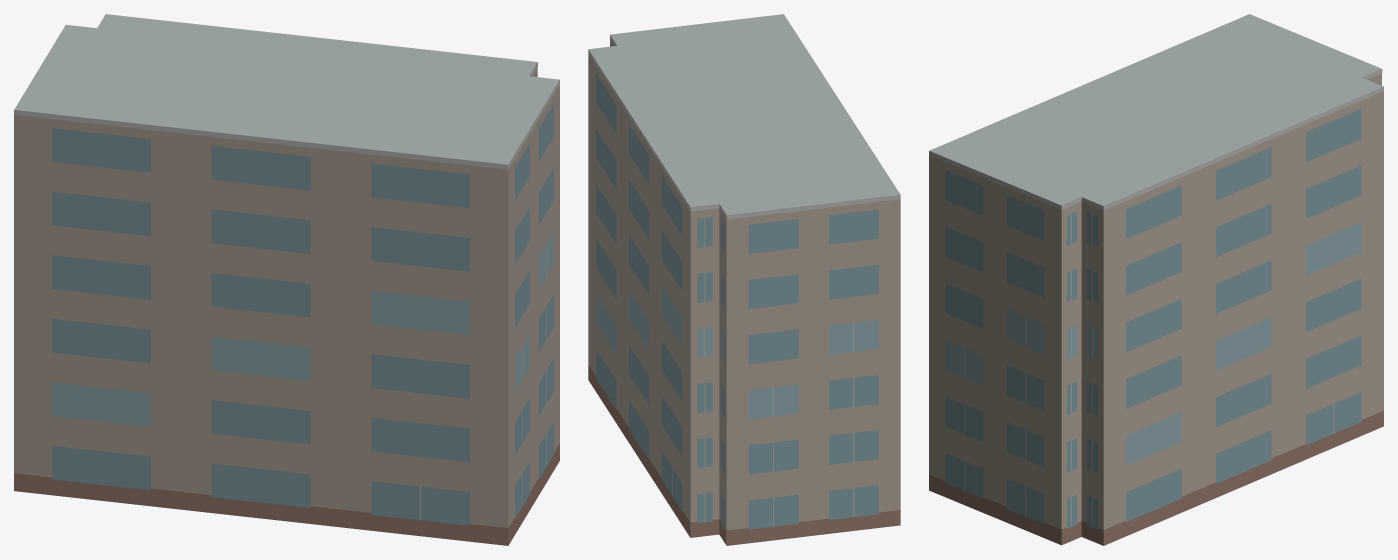
Rendered from survey-upis-32749974.glb.
3 views of the same model, side by side, from view 1: azimuth 30°, elevation 25°; view 2: azimuth 150°, elevation 25°; view 3: azimuth 270°, elevation 25° (orthographic). The views are drawn at different scales.
Parts seen in each view (by area): view 1: survey-upis-32749974.tmp; view 2: survey-upis-32749974.tmp; view 3: survey-upis-32749974.tmp.
Part boxes in pixels (x1,y1,x2,y2): survey-upis-32749974.tmp: (14, 14, 559, 545); survey-upis-32749974.tmp: (588, 14, 900, 545); survey-upis-32749974.tmp: (929, 14, 1383, 545).
Bounding box in the file's own units: 22.2 × 18.3 × 22.2.
